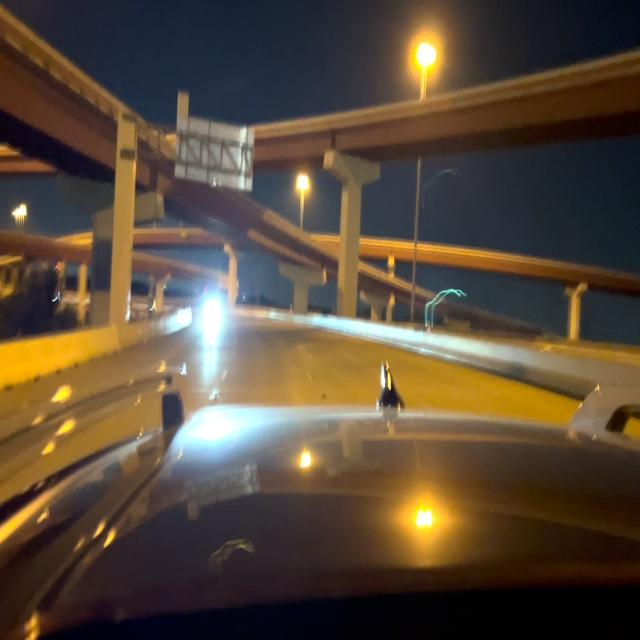back-of-sign: (178, 119, 252, 191)
